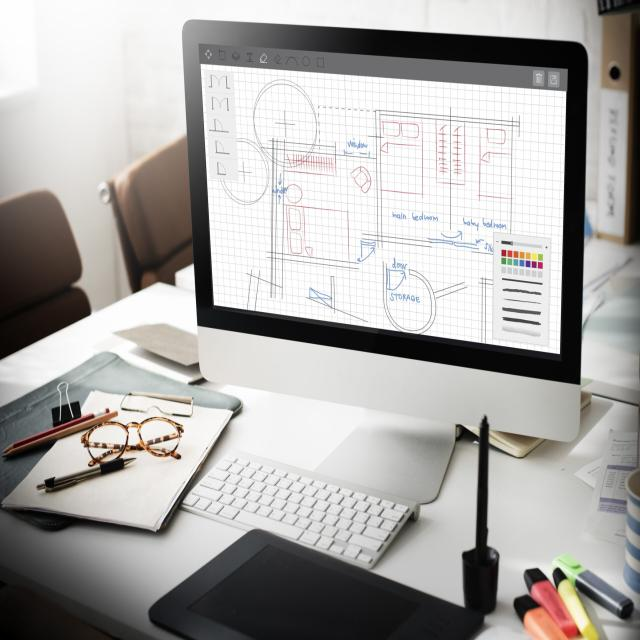komputer: (197, 40, 592, 501)
